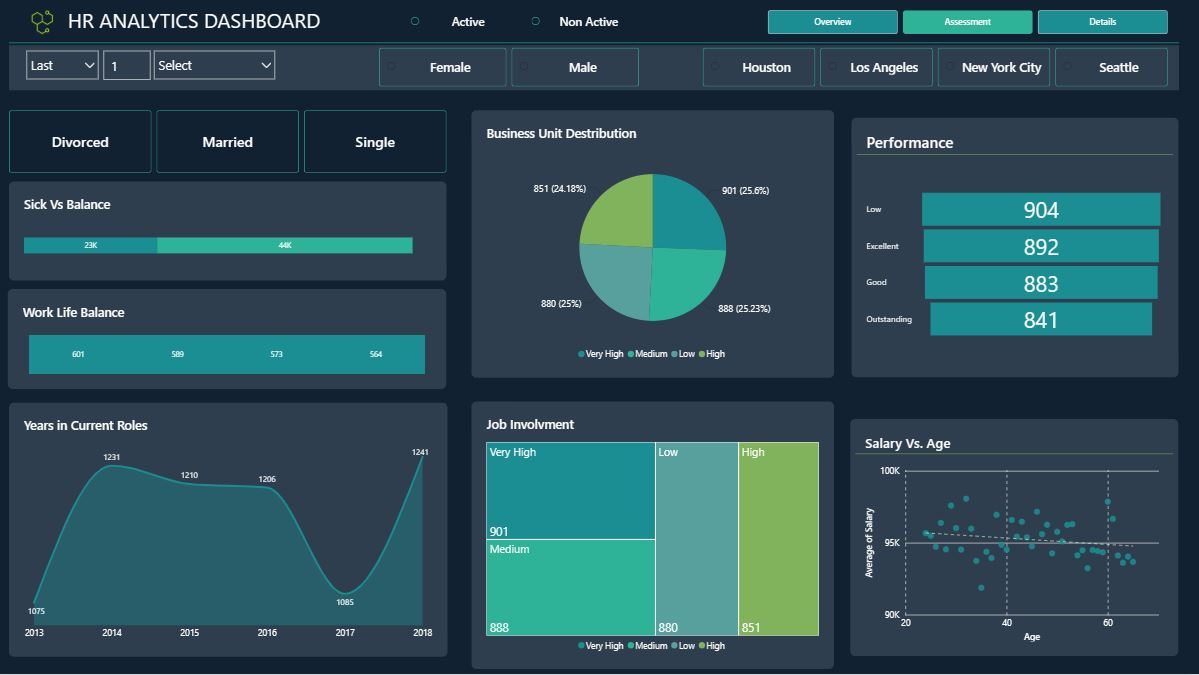

This screenshot's page, from the dashboard's own definition file:
{"tool":"powerbi","page":{"name":"Assessment","canvas":[1920,1080],"ordinal":1},"visuals":[{"type":"textbox","box":[94,12,436,52],"z":0},{"type":"shape","box":[16,56,1872,28],"z":1000},{"type":"shape","box":[16,74,1872,72],"z":2000},{"type":"image","box":[44,18,50.5,38.1],"z":3000},{"type":"advancedSlicerVisual","fields":{"Values":["Human Resources.Business Unit"]},"box":[1126,78,746,62],"z":4000},{"type":"advancedSlicerVisual","fields":{"Values":["Human Resources.Gender"]},"box":[608,78,416,62],"z":5000},{"type":"slicer","fields":{"Values":["Human Resources.Hire Date"]},"box":[36,78,416,56],"z":6000},{"type":"advancedSlicerVisual","fields":{"Values":["Human Resources.Marital Status"]},"box":[15.1,177.5,702,100],"z":7000},{"type":"barChart","title":"Sick Vs Balance","fields":{"Y":["Sum(Human Resources.Sick Days)","Sum(Human Resources.Balance Days)"]},"box":[16.7,291.7,700,158.3],"z":8000},{"type":"pieChart","title":"Business Unit Destribution","fields":{"Category":["Human Resources.Job Involvement"],"Y":["CountNonNull(Human Resources.Last Name)"]},"box":[755.3,177.5,580,428],"z":9000},{"type":"funnel","title":"Performance","fields":{"Category":["Human Resources.Performance Rating"],"Y":["CountNonNull(Human Resources.Job Involvement)"]},"box":[1363.3,190,523.3,415],"z":10000},{"type":"areaChart","title":"Years in Current Roles","fields":{"Category":["Human Resources.Hire Date.Variation.Date Hierarchy.Year"],"Y":["Sum(Human Resources.Years in current role)"]},"box":[16.7,645,701.7,406.7],"z":11000},{"type":"treemap","title":"Job Involvment","fields":{"Group":["Human Resources.Job Involvement"],"Values":["CountNonNull(Human Resources.Last Name)"]},"box":[755.3,644.9,580,428],"z":12000},{"type":"scatterChart","title":"Salary Vs. Age","fields":{"X":["Human Resources.Age"],"Y":["Avg(Human Resources.Salary)"]},"box":[1362.7,672.4,524.9,379.3],"z":13000},{"type":"hundredPercentStackedColumnChart","title":"Work Life Balance","fields":{"Category":["Human Resources.WorkLife Balance"],"Y":["Count(Human Resources.Last Name)"]},"box":[13.3,463.3,701.7,160],"z":14000},{"type":"pageNavigator","box":[1230.5,17.6,641.6,38.7],"z":14001},{"type":"advancedSlicerVisual","fields":{"Values":["Human Resources.Emp.Type"]},"box":[646.6,3.6,378.2,64.8],"z":14002}]}

Visuals, with their boxes in screenshot pixels (x1, y1, x2, y2), scaled from the page's 1920x1080 canvas onto the 1199x675 screenshot:
textbox: 59, 8, 331, 40
shape: 10, 35, 1179, 52
shape: 10, 46, 1179, 91
image: 27, 11, 59, 35
advancedSlicerVisual - Human Resources.Business Unit: 703, 49, 1169, 88
advancedSlicerVisual - Human Resources.Gender: 380, 49, 639, 88
slicer - Human Resources.Hire Date: 22, 49, 282, 84
advancedSlicerVisual - Human Resources.Marital Status: 9, 111, 448, 173
"Sick Vs Balance" barChart: 10, 182, 448, 281
"Business Unit Destribution" pieChart: 472, 111, 834, 378
"Performance" funnel: 851, 119, 1178, 378
"Years in Current Roles" areaChart: 10, 403, 449, 657
"Job Involvment" treemap: 472, 403, 834, 671
"Salary Vs. Age" scatterChart: 851, 420, 1179, 657
"Work Life Balance" hundredPercentStackedColumnChart: 8, 290, 447, 390
pageNavigator: 768, 11, 1169, 35
advancedSlicerVisual - Human Resources.Emp.Type: 404, 2, 640, 43
